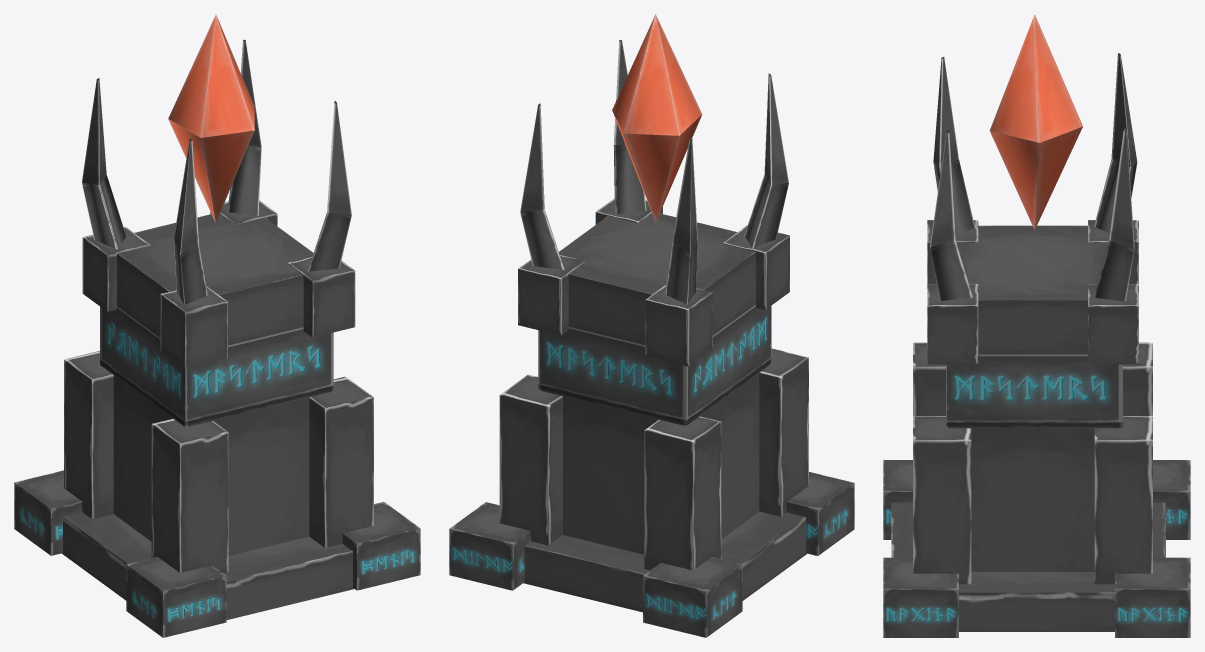
The model's file is magic_1.FBX.
The picture shows the model from 3 angles, left to right: view 1: azimuth 30°, elevation 25°; view 2: azimuth 150°, elevation 25°; view 3: azimuth 270°, elevation 25°; orthographic projection. The views are drawn at different scales.
Visible parts, largest first — view 1: Box576, Cone040; view 2: Box576, Cone040; view 3: Box576, Cone040.
Part boxes in pixels (bbox=[...]): Box576: bbox=[14, 39, 420, 637]; Cone040: bbox=[168, 14, 254, 222]; Box576: bbox=[449, 40, 854, 637]; Cone040: bbox=[612, 14, 702, 222]; Box576: bbox=[883, 53, 1190, 637]; Cone040: bbox=[989, 14, 1082, 229].
Size of the model in its own units: 44.79 by 89.97 by 44.81.
